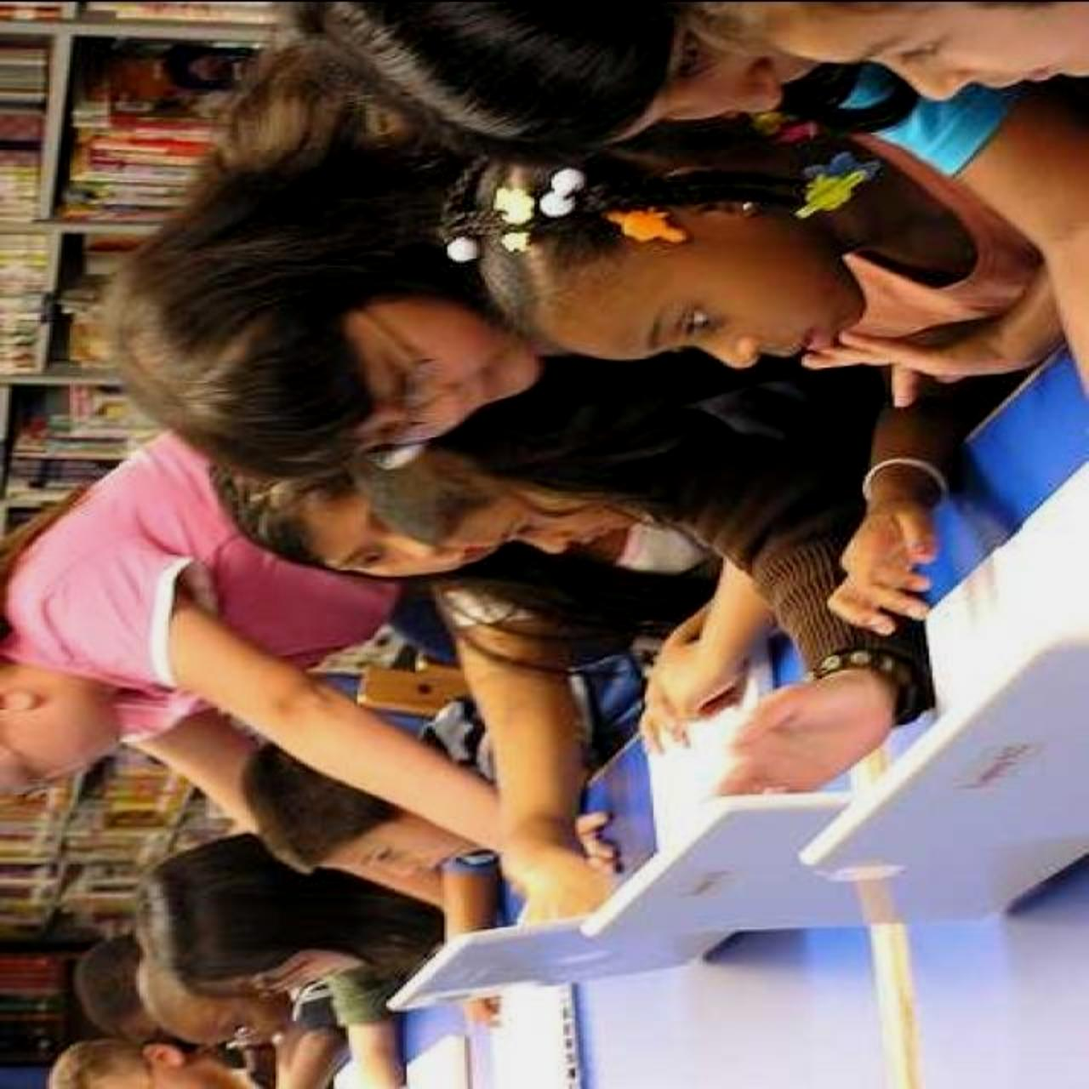laptop: (801, 650, 1089, 868), (602, 824, 977, 926), (410, 928, 662, 1001)
